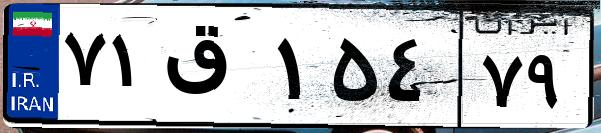1: (270, 28, 330, 110), (110, 28, 158, 98)
4: (385, 28, 445, 110)
5: (330, 28, 385, 110)
7: (57, 26, 110, 100), (475, 38, 525, 113)
9: (525, 38, 570, 115)
ق: (158, 20, 270, 120)
